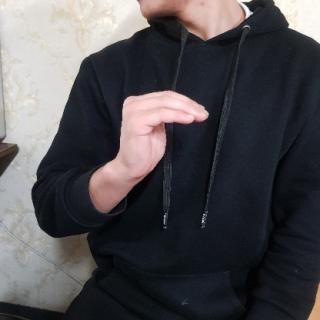HAA: (112, 86, 208, 186)
